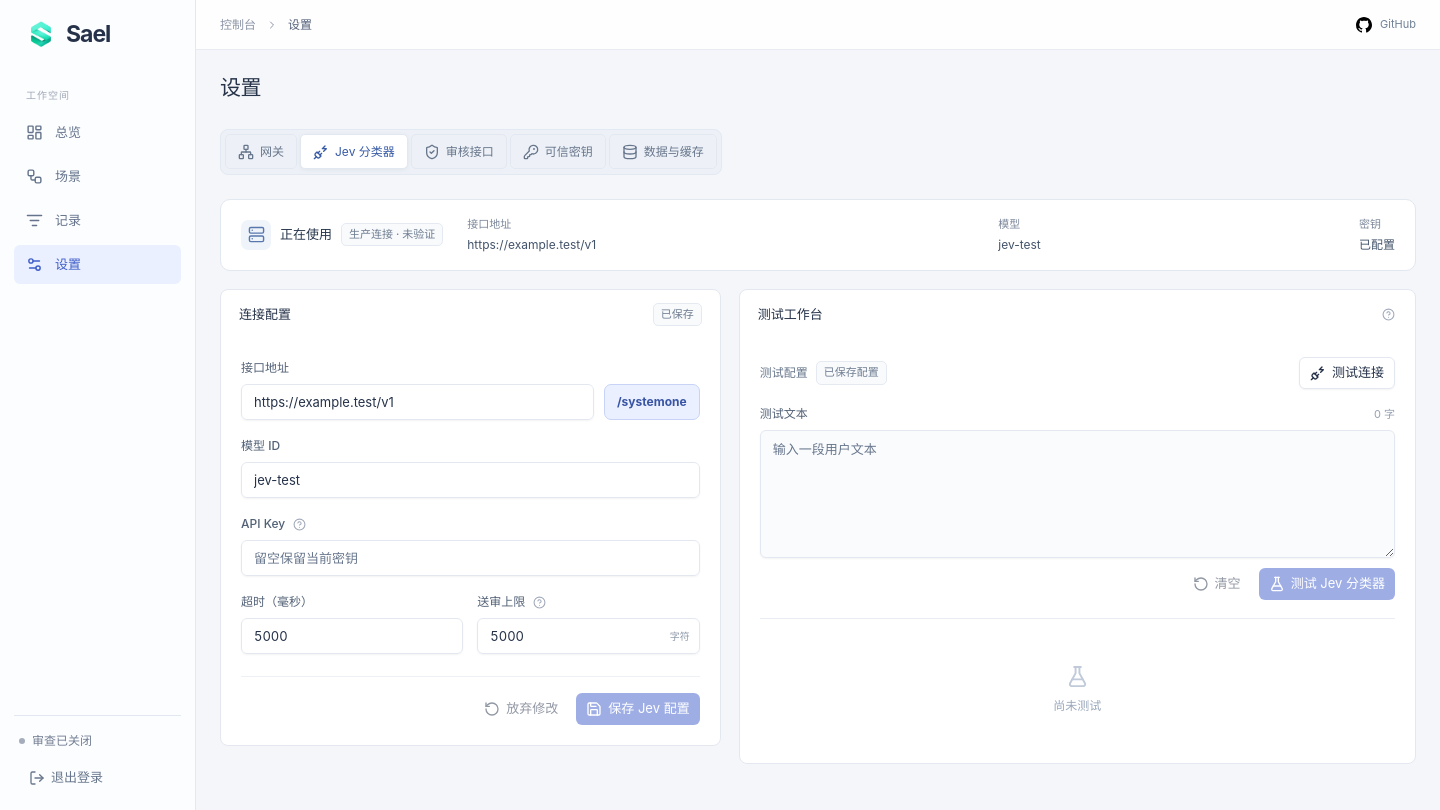
Test: refreshes production Jev status only after saved tests (draft=false, failed=true)
Expected: the text "生产连接 · 未验证" is shown, [341,223,443,246]
Click the button "测试连接": (1347, 373) [1299,357,1395,389]
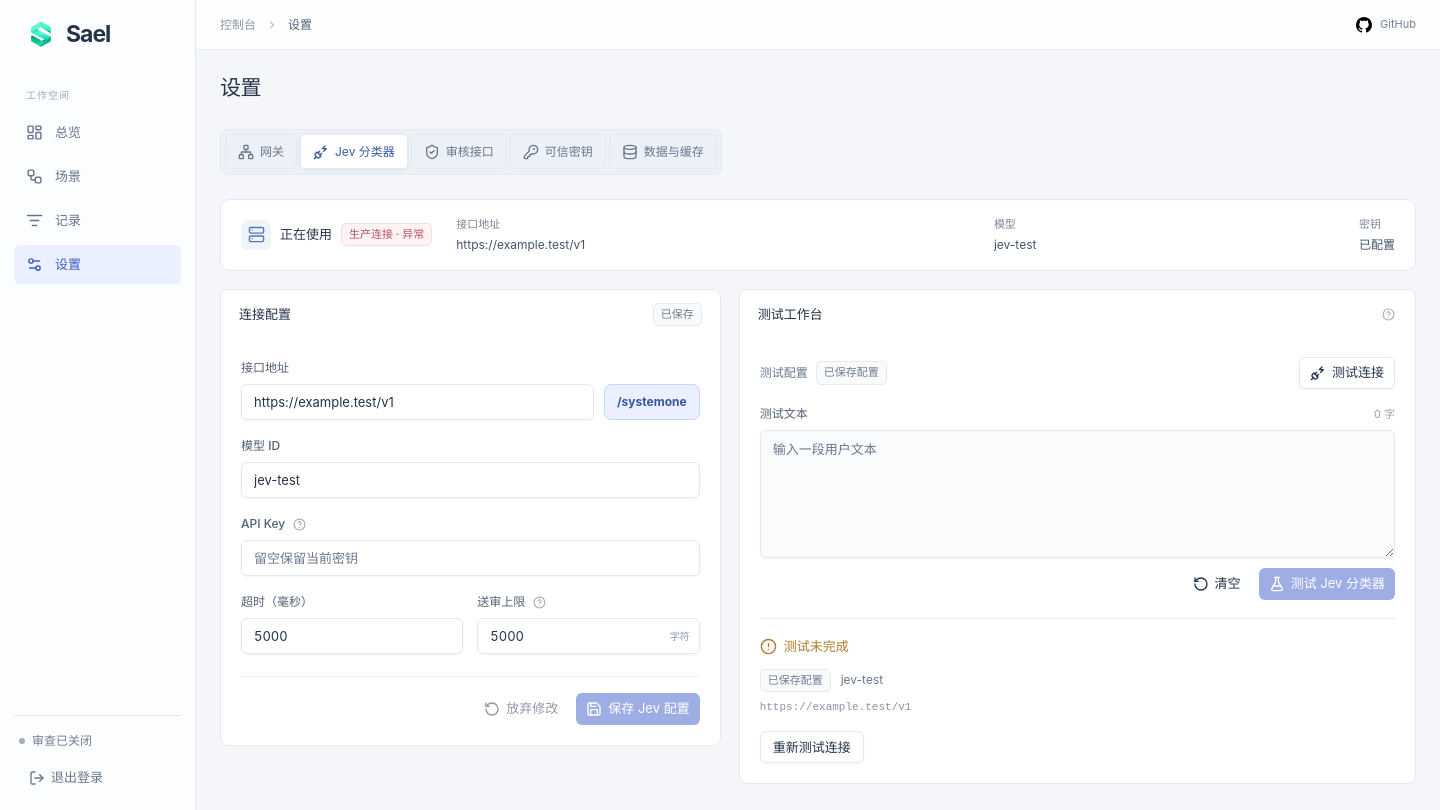
Expected: the text "生产连接 · 异常" is shown, [341,223,432,246]
Expected: the text "测试未完成" is shown, [784,637,849,656]
